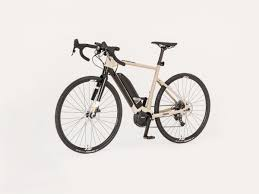bicycle: (43, 30, 220, 162)
